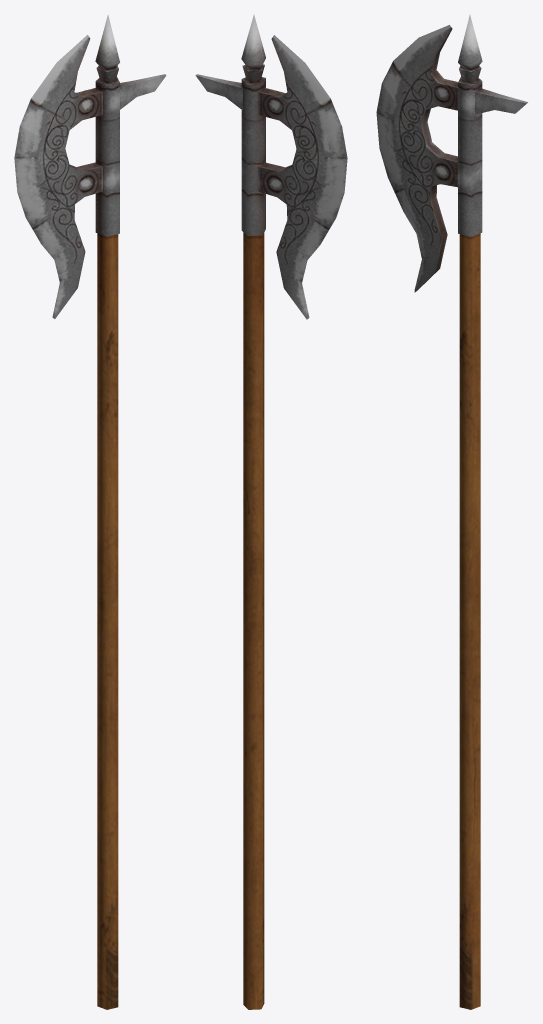
File: LongWeapon.fbx
3 renders of one model, left to right at view 1: azimuth 30°, elevation 25°; view 2: azimuth 150°, elevation 25°; view 3: azimuth 330°, elevation 25°, orthographic.
Parts seen in each view (by area): view 1: LongWeapon; view 2: LongWeapon; view 3: LongWeapon.
Boxes of the visible parts, x1=… form: LongWeapon: x1=14, y1=14, x2=166, y2=1009; LongWeapon: x1=195, y1=14, x2=347, y2=1009; LongWeapon: x1=376, y1=14, x2=527, y2=1009.
Size of the model in its own units: 34.76 by 218 by 4.72.
